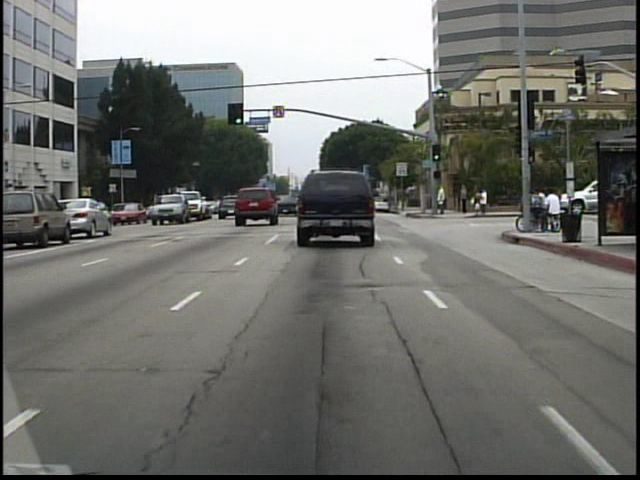person: (434, 183, 448, 219), (457, 181, 470, 218), (397, 186, 409, 213)
